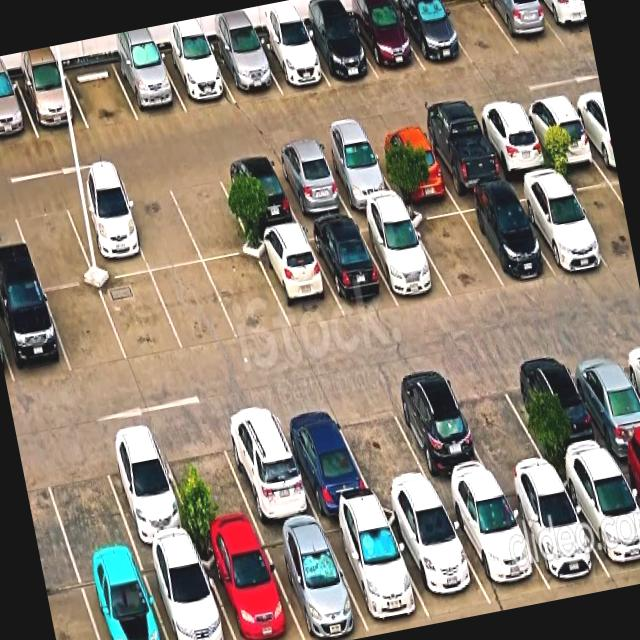car: (401, 507, 484, 626), (338, 516, 418, 638), (462, 492, 542, 614), (227, 432, 311, 546), (522, 479, 598, 602), (275, 528, 358, 640), (400, 388, 480, 501), (111, 456, 192, 566), (295, 423, 369, 537), (208, 541, 292, 640), (521, 356, 593, 469), (461, 376, 534, 484), (532, 176, 604, 284), (578, 466, 640, 591), (371, 208, 442, 311), (477, 188, 546, 292), (69, 180, 142, 277), (378, 113, 446, 215), (433, 108, 500, 210), (320, 215, 386, 317), (115, 25, 180, 127), (260, 232, 330, 326), (150, 557, 229, 640), (578, 353, 640, 458), (222, 152, 292, 244), (483, 102, 548, 201), (532, 90, 596, 190), (83, 569, 169, 640), (164, 17, 227, 112), (260, 0, 321, 96), (0, 292, 64, 383), (213, 7, 274, 102), (306, 0, 370, 89), (326, 132, 388, 221), (18, 44, 78, 135), (280, 142, 340, 228), (355, 0, 416, 80), (400, 0, 460, 70), (483, 0, 546, 47), (0, 54, 28, 147)
free: (49, 457, 132, 578), (173, 442, 251, 552), (346, 410, 426, 514), (420, 206, 494, 301), (66, 34, 133, 134), (128, 174, 194, 273), (103, 266, 172, 360), (50, 284, 121, 374), (180, 162, 246, 258), (18, 204, 87, 292), (210, 248, 276, 337), (158, 258, 223, 344), (442, 0, 505, 61)
